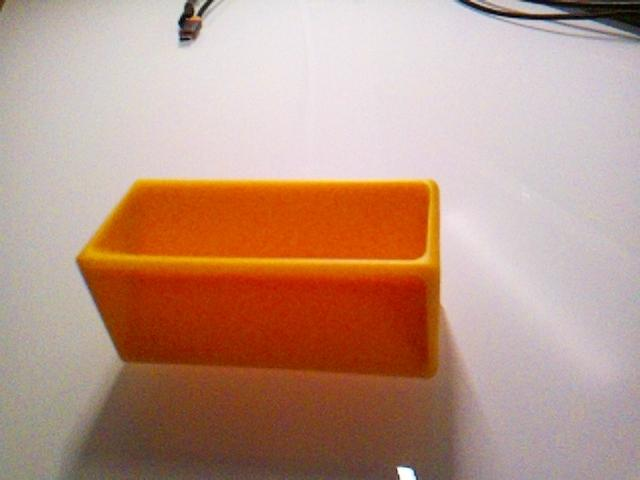yellow: (75, 176, 443, 380)
